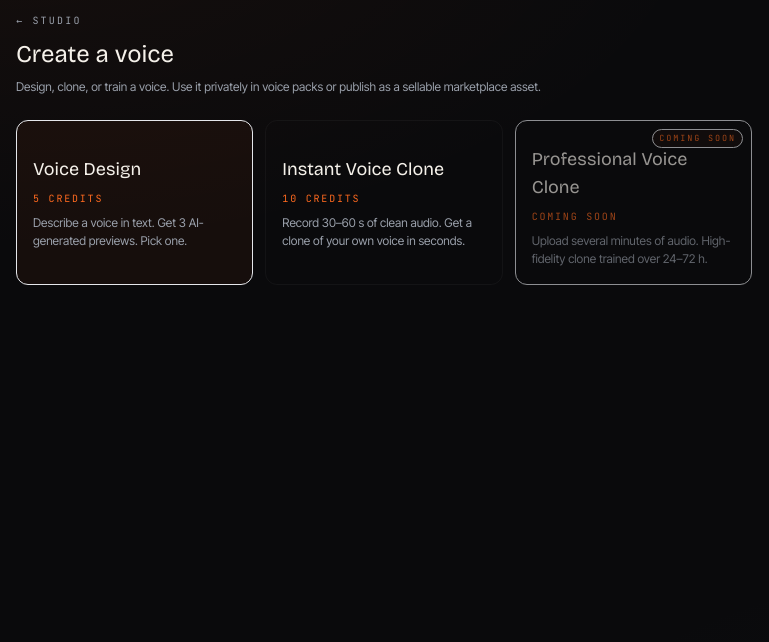
Test: StudioVoiceNew › shows error + does not advance when preview fetch fails
Click the button with test id "method-design": (135, 202) [16,120,253,285]
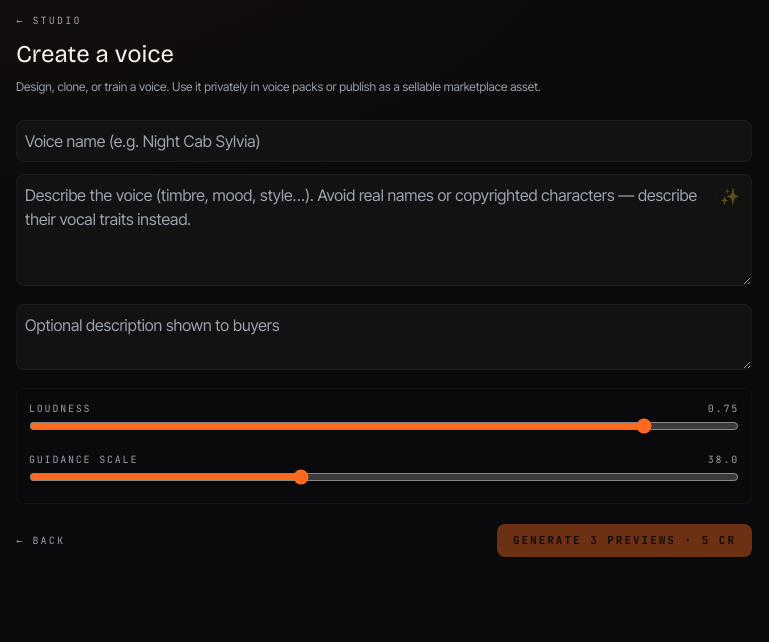
In the field with test id "design-name": (384, 141) [16,120,752,162], type "X"
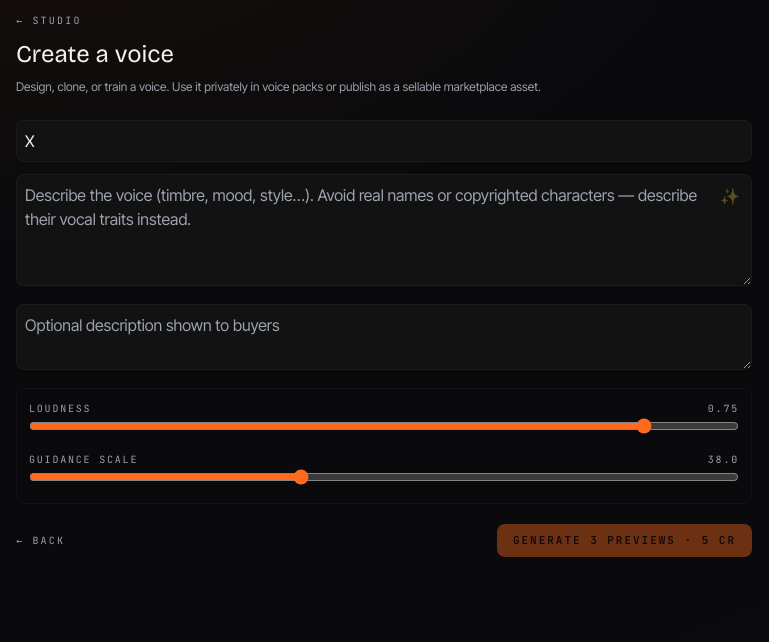
Replace the text in the text box with test id "design-prompt" with "y": (384, 230) [16,174,752,286]
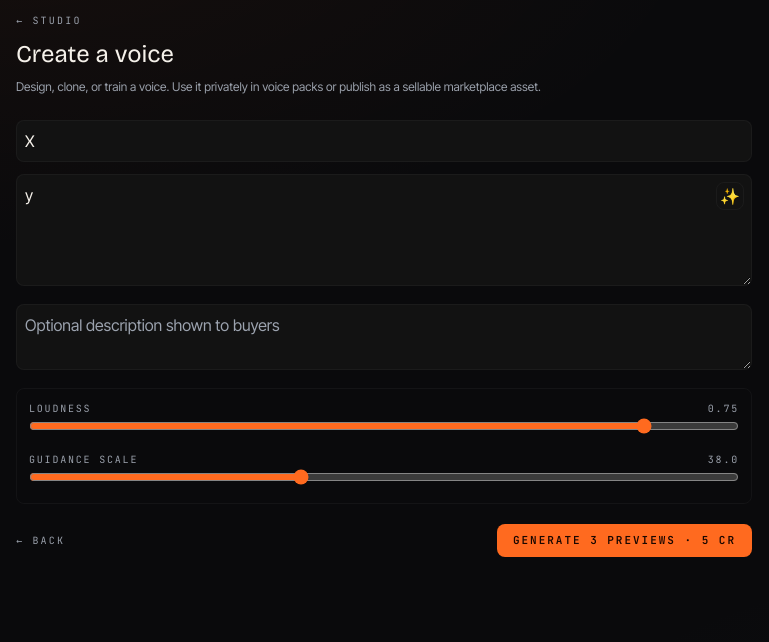
Click the button with test id "design-submit": (624, 540) [497,524,752,556]
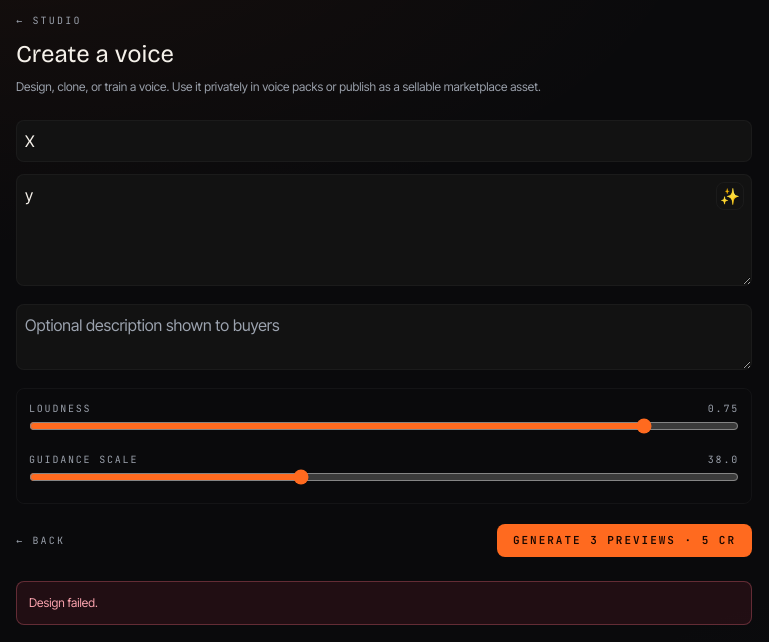
Check: the message "Design failed." is shown, box [16,580,752,624]
